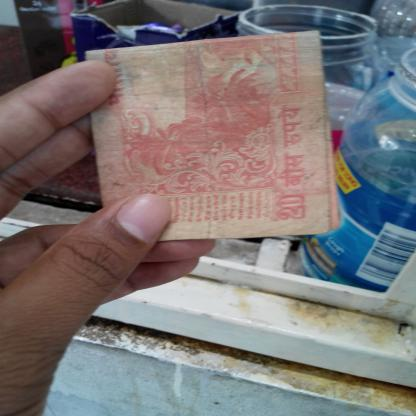Old20Back: (87, 38, 319, 230)
